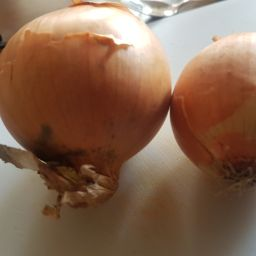Medium chopped onions: (3, 3, 169, 205), (156, 17, 256, 197)
